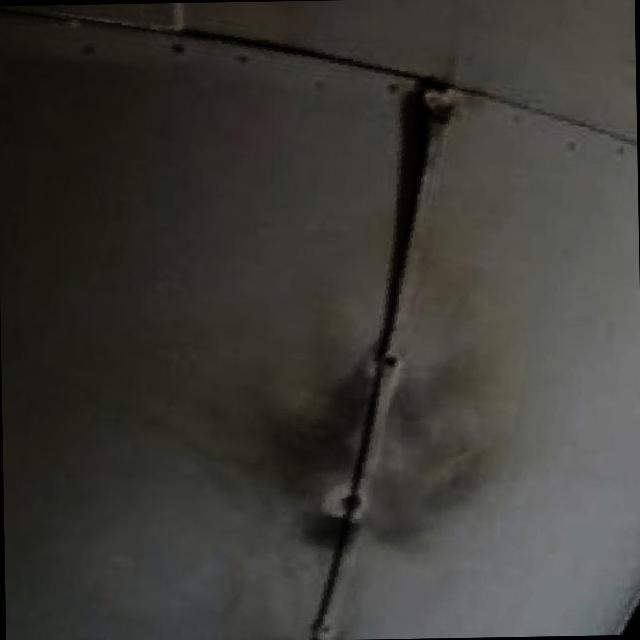crack: (380, 78, 431, 361)
